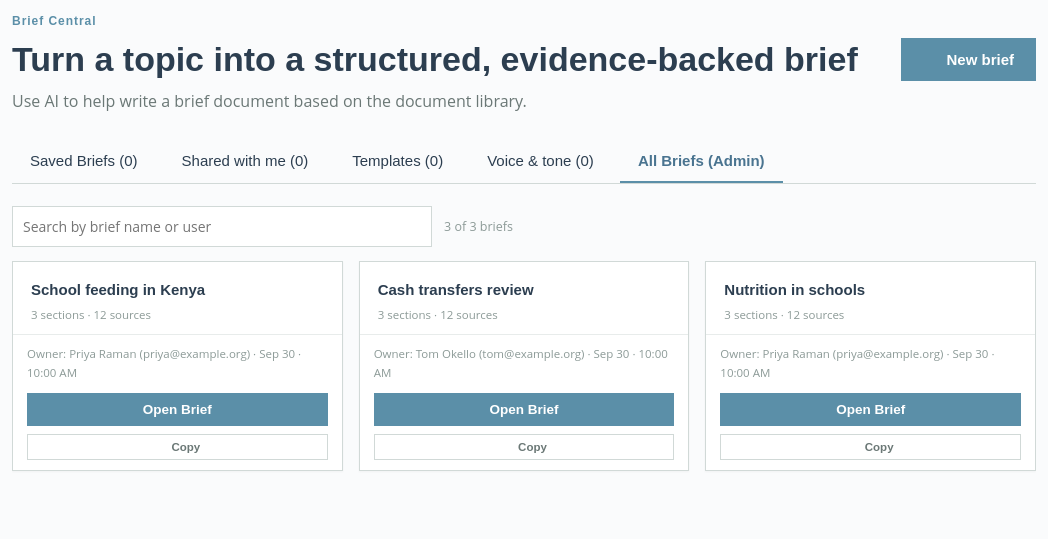
Test: the All Briefs (Admin) tab › Copy puts a copy in the admin’s own Saved Briefs and says so
This screenshot has width=1048, height=539.
Click the 2nd button "Copy": (524, 447) [374,434,674,460]
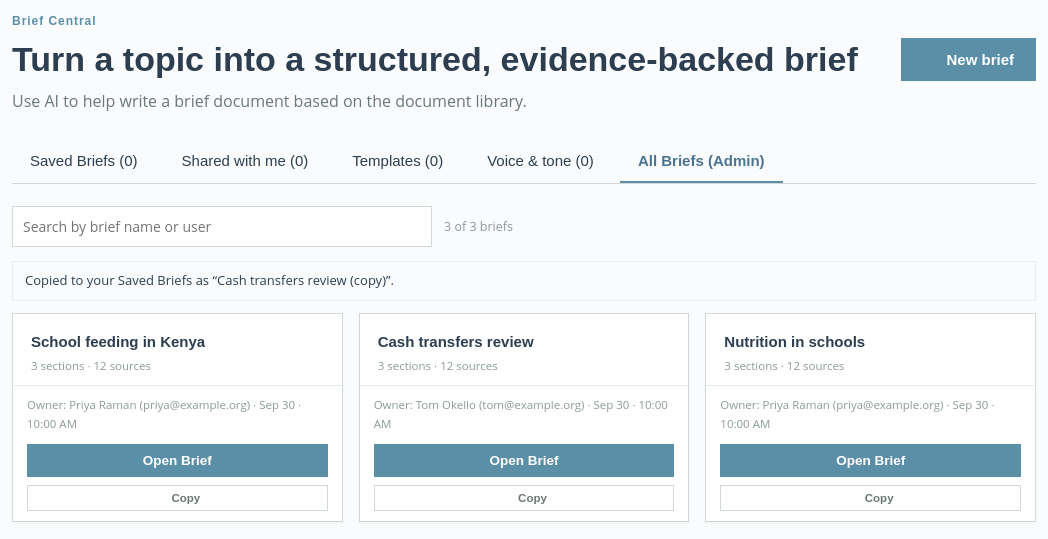
Check: the message reads "Copied to your Saved Briefs as “Cash transfers review (copy)”.", box [25,272,394,290]
